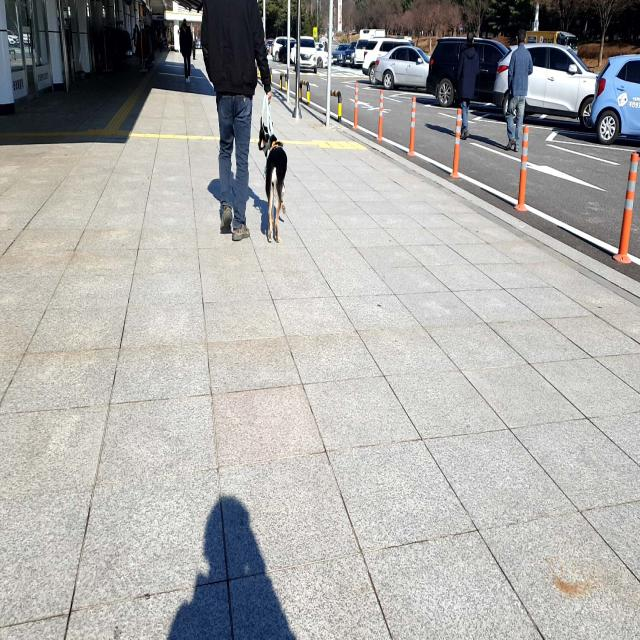Leashed_Dog: (232, 91, 288, 242)
